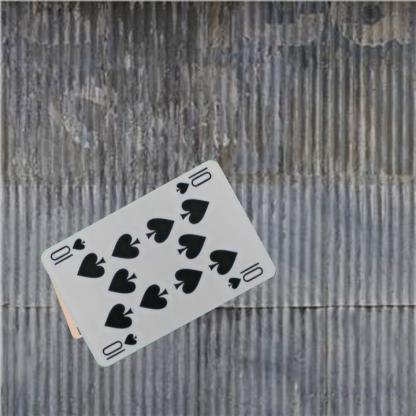10s: (99, 330, 139, 362), (173, 169, 213, 196)
